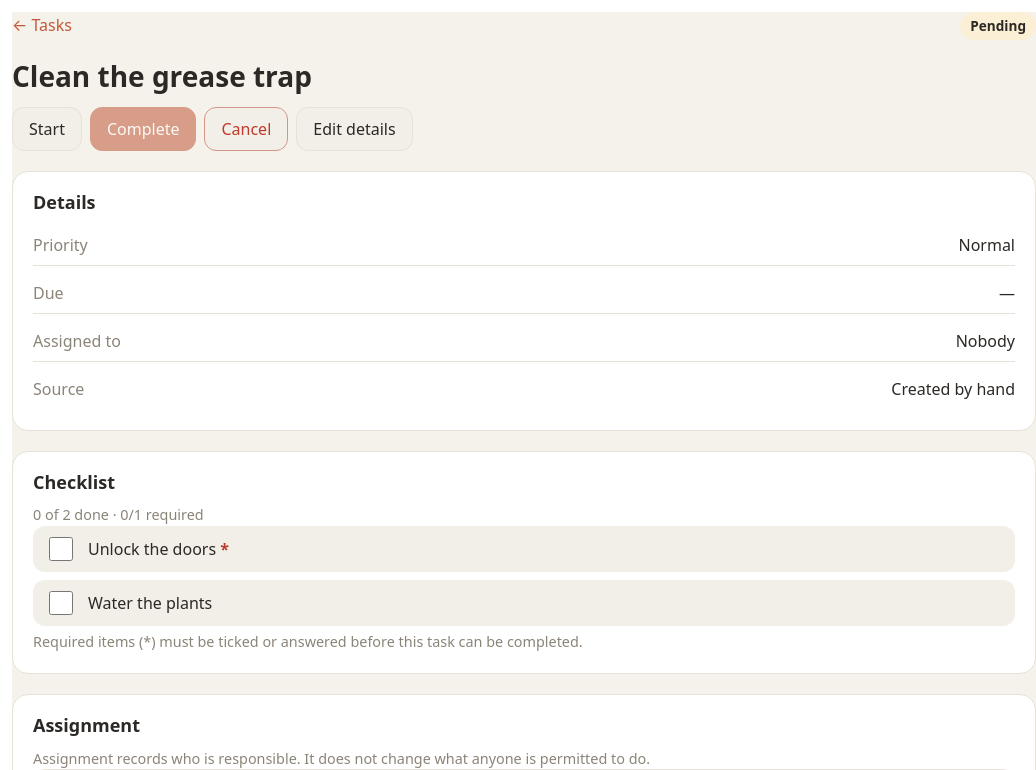
Task detail and checklist › a checklist failure is shown and survives the refetch
Check: the text "Unlock the doors" is shown, box [88,538,216,560]
Click the checkbox labelled "Unlock the doors *": (61,549) [49,537,73,561]
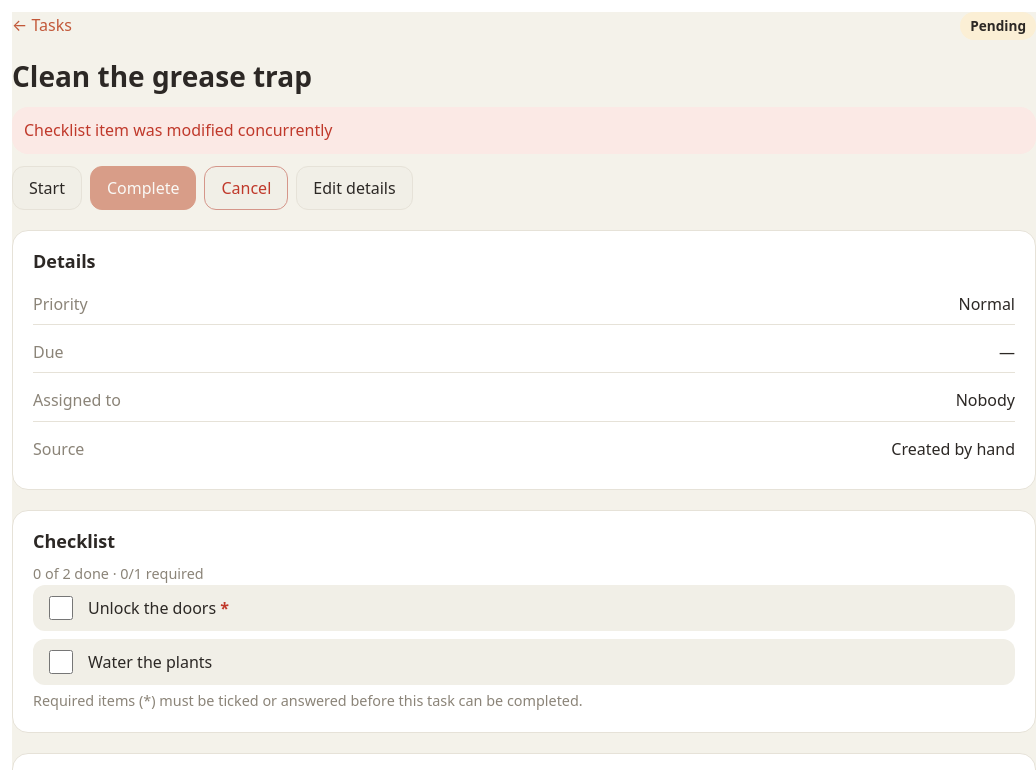
Check: the message shows "modified concurrently", box [24,119,332,141]
